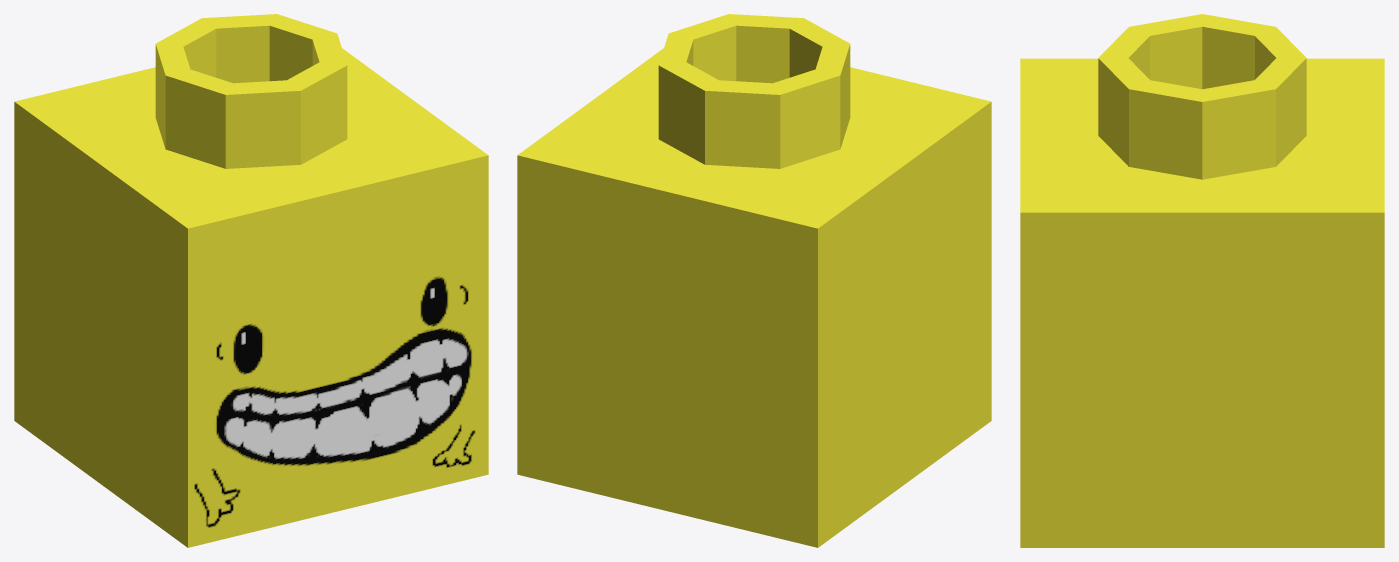
The model's file is PlayerModelV2.fbx.
3 renders of one model, left to right at view 1: azimuth 30°, elevation 25°; view 2: azimuth 150°, elevation 25°; view 3: azimuth 270°, elevation 25°, orthographic. The views are drawn at different scales.
Visible parts, largest first — view 1: Brickboy; view 2: Brickboy; view 3: Brickboy.
Boxes of the visible parts, left/top/right/bottom form: Brickboy: left=14, top=14, right=488, bottom=547; Brickboy: left=517, top=14, right=991, bottom=547; Brickboy: left=1020, top=14, right=1384, bottom=547.
Bounding box in the file's own units: 100 × 125 × 100.
